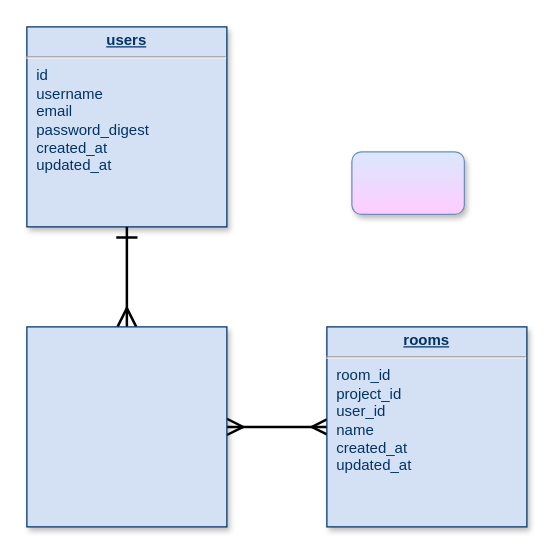
The diagram is 556 pixels wide and 558 high, and some of its shapes have lost their labels. The shapes that lost their labels are listed below. From the top down, each one's centre as x and y in pixels, then its label:
At [409,184]: "HomePro ERD".
At [127,428]: "projects id name user_id created_at updated_at".
